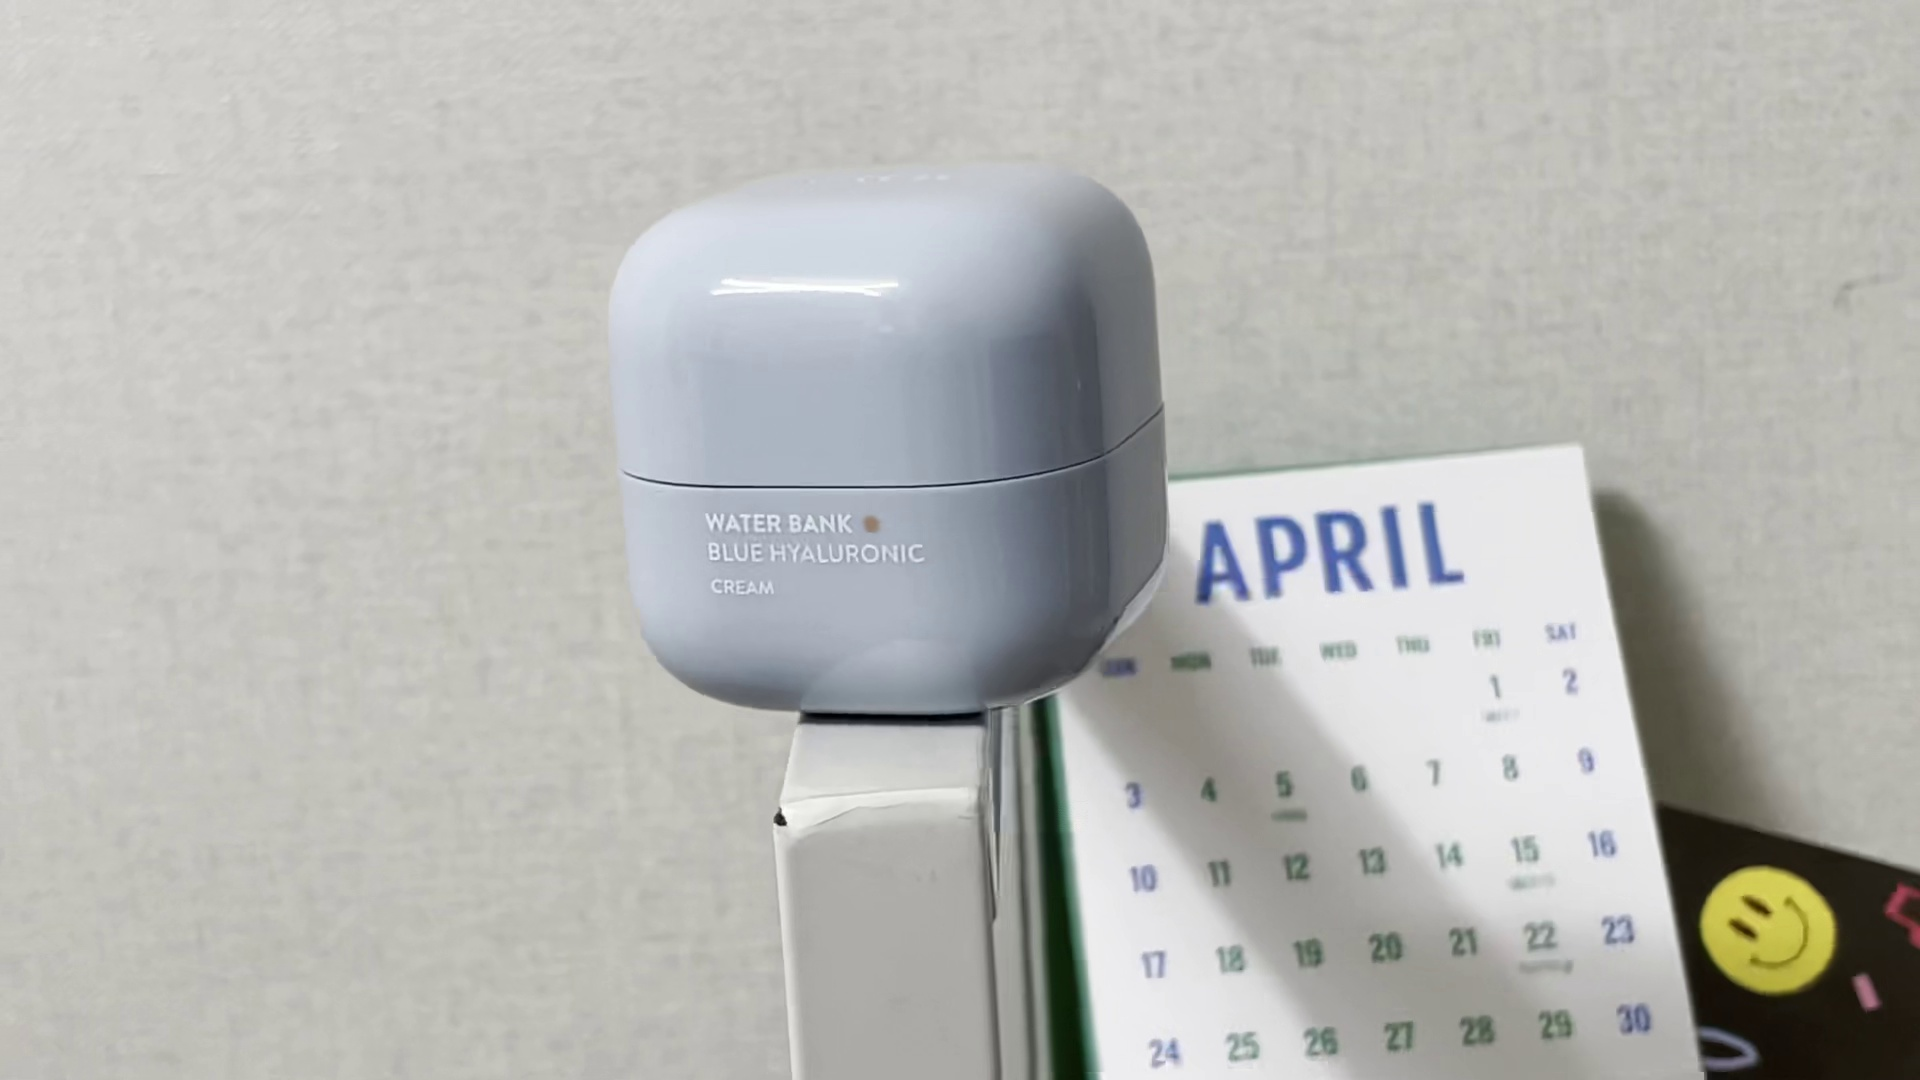cream: (595, 154, 1185, 715)
